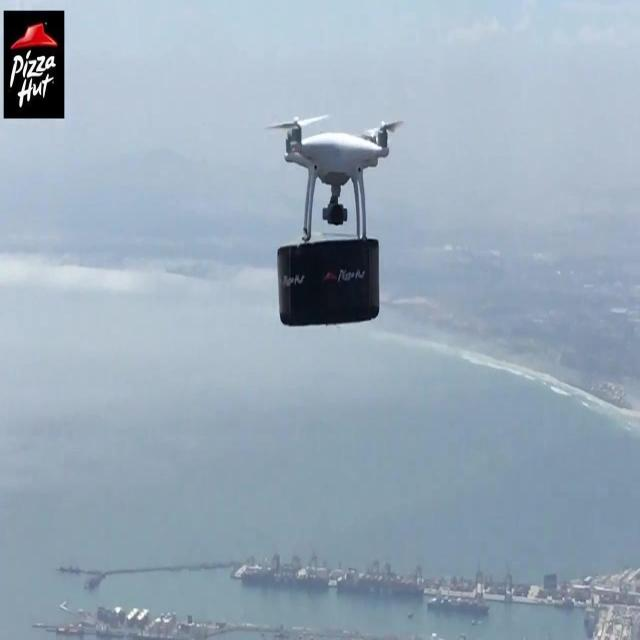drone: (263, 110, 403, 240)
